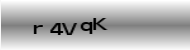4: (48, 22, 62, 36)
K: (92, 17, 106, 30)
V: (62, 21, 78, 36)
q: (80, 21, 93, 35)
r: (32, 24, 44, 35)
